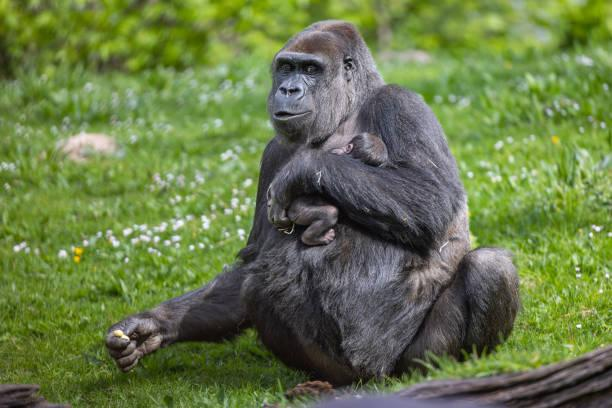gorille_Autres: (112, 0, 540, 390)
